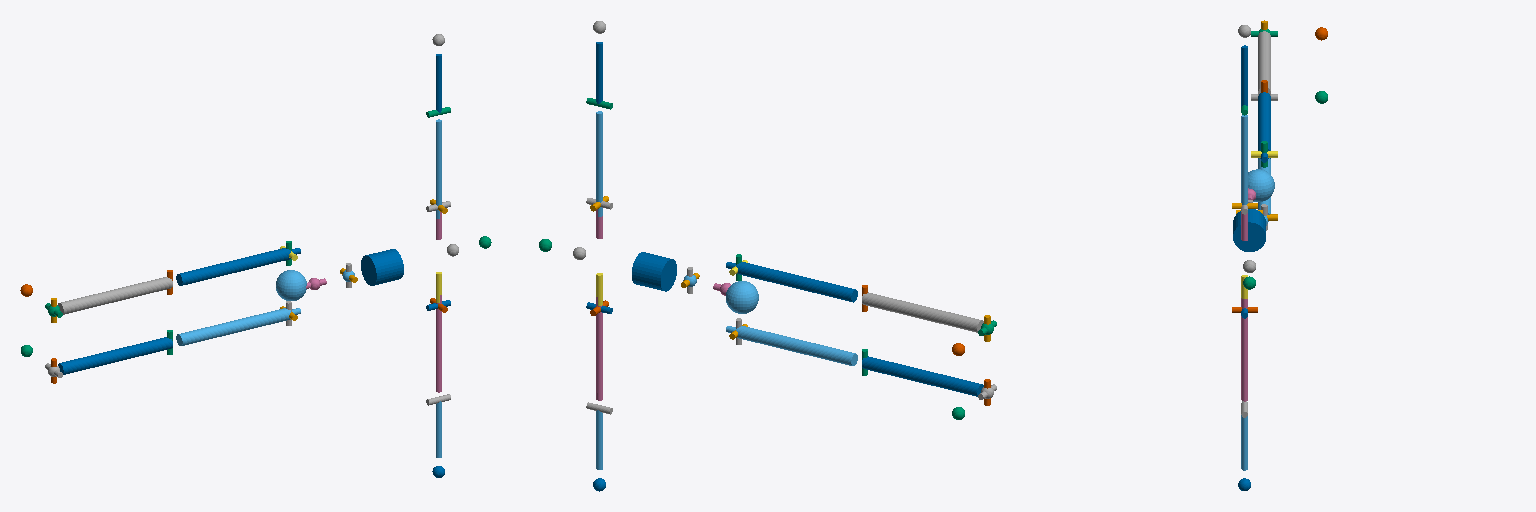
--- What the picture shows (computed from the rendered views, not written in the file) ---
3 views of the same robot in one strip: view 1: azimuth 30°, elevation 25°; view 2: azimuth 150°, elevation 25°; view 3: azimuth 270°, elevation 25° (orthographic).
Robot: bvh_human_3dof_tpose — 70 links, 69 joints (23 revolute, 45 fixed, 1 floating); root link world; default pose: every joint at zero.
Links seen in each view (by area): view 1: RightUpLeg, LeftUpLeg, RightLeg, LeftLeg, Spine2, Hips, LeftArm; view 2: LeftUpLeg, RightUpLeg, LeftLeg, RightLeg, Spine2, Hips, LeftArm, RightArm; view 3: Spine2, LeftUpLeg, LeftLeg, Hips, RightArm, LeftArm.
Boxes of the visible links, left/top/right/bottom form: RightUpLeg: left=176, top=308, right=300, bottom=345; LeftUpLeg: left=176, top=248, right=300, bottom=285; RightLeg: left=58, top=337, right=172, bottom=374; LeftLeg: left=58, top=277, right=172, bottom=314; Spine2: left=361, top=249, right=403, bottom=285; Hips: left=276, top=270, right=306, bottom=300; LeftArm: left=436, top=119, right=441, bottom=218; LeftUpLeg: left=726, top=262, right=857, bottom=302; RightUpLeg: left=726, top=326, right=857, bottom=365; LeftLeg: left=862, top=292, right=983, bottom=332; RightLeg: left=862, top=356, right=983, bottom=396; Spine2: left=632, top=252, right=676, bottom=291; Hips: left=726, top=281, right=758, bottom=313; LeftArm: left=596, top=111, right=602, bottom=216; RightArm: left=596, top=297, right=602, bottom=400; Spine2: left=1233, top=209, right=1265, bottom=251; LeftUpLeg: left=1258, top=92, right=1270, bottom=162; LeftLeg: left=1258, top=31, right=1270, bottom=95; Hips: left=1248, top=169, right=1274, bottom=201; RightArm: left=1241, top=298, right=1247, bottom=401; LeftArm: left=1241, top=115, right=1247, bottom=204.
Bounding box of the posed robot: 1.59 × 0.2924 × 1.55 m (x, y, z).
Geometry: primitives only (box / cylinder / sphere), no mesh files.

The robot description file, URDF, robot "bvh_human_3dof_tpose":
<?xml version='1.0' encoding='utf-8'?>
<robot name="bvh_human_3dof_tpose">

  <mujoco>
    <compiler meshdir="meshes" fusestatic="false" discardvisual="false" strippath="false" balanceinertia="true" />
  </mujoco>

  
  <link name="world" />
  <joint name="floating_base_joint" type="floating">
    <parent link="world" />
    <child link="Hips" />
  </joint>

  <link name="Hips">
    <inertial>
      <origin xyz="0 0 0" rpy="0 0 0" />
      <mass value="1.0" />
      <inertia ixx="0.01" ixy="0.0" ixz="0.0" iyy="0.01" iyz="0.0" izz="0.01" />
    </inertial>
    <visual>
      <geometry>
        <sphere radius="0.05" />
      </geometry>
    </visual>
  </link>

  
  <link name="LeftUpLeg_rz">
    <inertial>
      <origin xyz="0 0 0" rpy="0 0 0" />
      <mass value="1.0" />
      <inertia ixx="0.01" ixy="0.0" ixz="0.0" iyy="0.01" iyz="0.0" izz="0.01" />
    </inertial>
  <visual><origin xyz="0 0 0" rpy="0 0 0" /><geometry><cylinder radius="0.0100" length="0.0800" /></geometry></visual></link>

  <link name="LeftUpLeg_ry">
    <inertial>
      <origin xyz="0 0 0" rpy="0 0 0" />
      <mass value="1.0" />
      <inertia ixx="0.01" ixy="0.0" ixz="0.0" iyy="0.01" iyz="0.0" izz="0.01" />
    </inertial>
  <visual><origin xyz="0 0 0" rpy="-1.5707963 0 0" /><geometry><cylinder radius="0.0100" length="0.0800" /></geometry></visual></link>

  <link name="LeftUpLeg">
    <inertial>
      <origin xyz="0 0 0" rpy="0 0 0" />
      <mass value="1.0" />
      <inertia ixx="0.01" ixy="0.0" ixz="0.0" iyy="0.01" iyz="0.0" izz="0.01" />
    </inertial>
    <visual>
      <origin xyz="0.2 -0.0 -0.0" rpy="0 1.57 0" />
      <geometry>
        <cylinder radius="0.02" length="0.4" />
      </geometry>
    </visual>
  <visual><origin xyz="0 0 0" rpy="0 1.5707963 0" /><geometry><cylinder radius="0.0100" length="0.0800" /></geometry></visual></link>

  
  <joint name="Hips_to_LeftUpLeg_rz" type="revolute">
    <parent link="Hips" />
    <child link="LeftUpLeg_rz" />
    <origin xyz="0.00103457 0.01857820 0.10548506" rpy="0 0 -3.1415927" />
    <axis xyz="0 0 1" />
    <limit lower="-3.14159" upper="3.14159" effort="100" velocity="10" />
  </joint>

  <joint name="LeftUpLeg_rz_to_LeftUpLeg_ry" type="revolute">
    <parent link="LeftUpLeg_rz" />
    <child link="LeftUpLeg_ry" />
    <origin xyz="0 0 0" rpy="0 0 0" />
    <axis xyz="0 1 0" />
    <limit lower="-3.14159" upper="3.14159" effort="100" velocity="10" />
  </joint>

  <joint name="LeftUpLeg_ry_to_LeftUpLeg" type="revolute">
    <parent link="LeftUpLeg_ry" />
    <child link="LeftUpLeg" />
    <origin xyz="0 0 0" rpy="3.1415927 0 0" />
    <axis xyz="1 0 0" />
    <limit lower="-3.14159" upper="3.14159" effort="100" velocity="10" />
  </joint>

  <link name="LeftLeg_rz">
    <inertial>
      <origin xyz="0 0 0" rpy="0 0 0" />
      <mass value="1.0" />
      <inertia ixx="0.01" ixy="0.0" ixz="0.0" iyy="0.01" iyz="0.0" izz="0.01" />
    </inertial>
  <visual><origin xyz="0 0 0" rpy="0 0 0" /><geometry><cylinder radius="0.0100" length="0.0800" /></geometry></visual></link>

  <link name="LeftLeg_ry">
    <inertial>
      <origin xyz="0 0 0" rpy="0 0 0" />
      <mass value="1.0" />
      <inertia ixx="0.01" ixy="0.0" ixz="0.0" iyy="0.01" iyz="0.0" izz="0.01" />
    </inertial>
  </link>

  <link name="LeftLeg">
    <inertial>
      <origin xyz="0 0 0" rpy="0 0 0" />
      <mass value="1.0" />
      <inertia ixx="0.01" ixy="0.0" ixz="0.0" iyy="0.01" iyz="0.0" izz="0.01" />
    </inertial>
    <visual>
      <origin xyz="0.2 -0.0 -0.0" rpy="0 1.57 0" />
      <geometry>
        <cylinder radius="0.02" length="0.4" />
      </geometry>
    </visual>
  </link>

  
  <joint name="LeftUpLeg_to_LeftLeg_rz" type="revolute">
    <parent link="LeftUpLeg" />
    <child link="LeftLeg_rz" />
    <origin xyz="0.43500000 -0.00000019 0.00000002" rpy="0 0 0" />
    <axis xyz="0 0 1" />
    <limit lower="-3.14159" upper="3.14159" effort="100" velocity="10" />
  </joint>

  <joint name="LeftLeg_rz_to_LeftLeg_ry" type="fixed">
    <parent link="LeftLeg_rz" />
    <child link="LeftLeg_ry" />
    <origin xyz="0 0 0" rpy="0 0 0" />
    <axis xyz="0 1 0" />
    <limit lower="-3.14159" upper="3.14159" effort="100" velocity="10" />
  </joint>

  <joint name="LeftLeg_ry_to_LeftLeg" type="fixed">
    <parent link="LeftLeg_ry" />
    <child link="LeftLeg" />
    <origin xyz="0 0 0" rpy="0 0 0" />
    <axis xyz="1 0 0" />
    <limit lower="-3.14159" upper="3.14159" effort="100" velocity="10" />
  </joint>

  <link name="LeftFoot_rz">
    <inertial>
      <origin xyz="0 0 0" rpy="0 0 0" />
      <mass value="1.0" />
      <inertia ixx="0.01" ixy="0.0" ixz="0.0" iyy="0.01" iyz="0.0" izz="0.01" />
    </inertial>
  <visual><origin xyz="0 0 0" rpy="0 0 0" /><geometry><cylinder radius="0.0100" length="0.0800" /></geometry></visual></link>

  <link name="LeftFoot_ry">
    <inertial>
      <origin xyz="0 0 0" rpy="0 0 0" />
      <mass value="1.0" />
      <inertia ixx="0.01" ixy="0.0" ixz="0.0" iyy="0.01" iyz="0.0" izz="0.01" />
    </inertial>
  </link>

  <link name="LeftFoot">
    <inertial>
      <origin xyz="0 0 0" rpy="0 0 0" />
      <mass value="1.0" />
      <inertia ixx="0.01" ixy="0.0" ixz="0.0" iyy="0.01" iyz="0.0" izz="0.01" />
    </inertial>
    <visual>
      <geometry>
        <sphere radius="0.02" />
      </geometry>
    </visual>
  <visual><origin xyz="0 0 0" rpy="0 1.5707963 0" /><geometry><cylinder radius="0.0100" length="0.0800" /></geometry></visual></link>

  
  <joint name="LeftLeg_to_LeftFoot_rz" type="revolute">
    <parent link="LeftLeg" />
    <child link="LeftFoot_rz" />
    <origin xyz="0.42372200 -0.00000004 0.00000003" rpy="0 0 1.5707963" />
    <axis xyz="0 0 1" />
    <limit lower="-3.14159" upper="3.14159" effort="100" velocity="10" />
  </joint>

  <joint name="LeftFoot_rz_to_LeftFoot_ry" type="fixed">
    <parent link="LeftFoot_rz" />
    <child link="LeftFoot_ry" />
    <origin xyz="0 0 0" rpy="0 0 0" />
    <axis xyz="0 1 0" />
    <limit lower="-3.14159" upper="3.14159" effort="100" velocity="10" />
  </joint>

  <joint name="LeftFoot_ry_to_LeftFoot" type="revolute">
    <parent link="LeftFoot_ry" />
    <child link="LeftFoot" />
    <origin xyz="0 0 0" rpy="0 0 0" />
    <axis xyz="1 0 0" />
    <limit lower="-3.14159" upper="3.14159" effort="100" velocity="10" />
  </joint>

  <link name="LeftToe_rz">
    <inertial>
      <origin xyz="0 0 0" rpy="0 0 0" />
      <mass value="1.0" />
      <inertia ixx="0.01" ixy="0.0" ixz="0.0" iyy="0.01" iyz="0.0" izz="0.01" />
    </inertial>
  </link>

  <link name="LeftToe_ry">
    <inertial>
      <origin xyz="0 0 0" rpy="0 0 0" />
      <mass value="1.0" />
      <inertia ixx="0.01" ixy="0.0" ixz="0.0" iyy="0.01" iyz="0.0" izz="0.01" />
    </inertial>
  </link>

  <link name="LeftToe">
    <inertial>
      <origin xyz="0 0 0" rpy="0 0 0" />
      <mass value="1.0" />
      <inertia ixx="0.01" ixy="0.0" ixz="0.0" iyy="0.01" iyz="0.0" izz="0.01" />
    </inertial>
    <visual>
      <geometry>
        <sphere radius="0.02" />
      </geometry>
    </visual>
  </link>

  
  <joint name="LeftFoot_to_LeftToe_rz" type="fixed">
    <parent link="LeftFoot" />
    <child link="LeftToe_rz" />
    <origin xyz="0.17300009 0.00000002 0.00000006" rpy="0 0 0" />
    <axis xyz="0 0 1" />
    <limit lower="-3.14159" upper="3.14159" effort="100" velocity="10" />
  </joint>

  <joint name="LeftToe_rz_to_LeftToe_ry" type="fixed">
    <parent link="LeftToe_rz" />
    <child link="LeftToe_ry" />
    <origin xyz="0 0 0" rpy="0 0 0" />
    <axis xyz="0 1 0" />
    <limit lower="-3.14159" upper="3.14159" effort="100" velocity="10" />
  </joint>

  <joint name="LeftToe_ry_to_LeftToe" type="fixed">
    <parent link="LeftToe_ry" />
    <child link="LeftToe" />
    <origin xyz="0 0 0" rpy="0 0 0" />
    <axis xyz="1 0 0" />
    <limit lower="-3.14159" upper="3.14159" effort="100" velocity="10" />
  </joint>

  <link name="LeftToe_End">
    <inertial>
      <origin xyz="0 0 0" rpy="0 0 0" />
      <mass value="1.0" />
      <inertia ixx="0.01" ixy="0.0" ixz="0.0" iyy="0.01" iyz="0.0" izz="0.01" />
    </inertial>
    <visual>
      <geometry>
        <sphere radius="0.02" />
      </geometry>
    </visual>
  </link>

  <joint name="LeftToe_to_LeftToe_End" type="fixed">
    <parent link="LeftToe" />
    <child link="LeftToe_End" />
    <origin xyz="0 0 0" rpy="0 0 0" />
  </joint>

  
  <link name="RightUpLeg_rz">
    <inertial>
      <origin xyz="0 0 0" rpy="0 0 0" />
      <mass value="1.0" />
      <inertia ixx="0.01" ixy="0.0" ixz="0.0" iyy="0.01" iyz="0.0" izz="0.01" />
    </inertial>
  <visual><origin xyz="0 0 0" rpy="0 0 0" /><geometry><cylinder radius="0.0100" length="0.0800" /></geometry></visual></link>

  <link name="RightUpLeg_ry">
    <inertial>
      <origin xyz="0 0 0" rpy="0 0 0" />
      <mass value="1.0" />
      <inertia ixx="0.01" ixy="0.0" ixz="0.0" iyy="0.01" iyz="0.0" izz="0.01" />
    </inertial>
  <visual><origin xyz="0 0 0" rpy="-1.5707963 0 0" /><geometry><cylinder radius="0.0100" length="0.0800" /></geometry></visual></link>

  <link name="RightUpLeg">
    <inertial>
      <origin xyz="0 0 0" rpy="0 0 0" />
      <mass value="1.0" />
      <inertia ixx="0.01" ixy="0.0" ixz="0.0" iyy="0.01" iyz="0.0" izz="0.01" />
    </inertial>
    <visual>
      <origin xyz="0.2 -0.0 -0.0" rpy="0 1.57 0" />
      <geometry>
        <cylinder radius="0.02" length="0.4" />
      </geometry>
    </visual>
  <visual><origin xyz="0 0 0" rpy="0 1.5707963 0" /><geometry><cylinder radius="0.0100" length="0.0800" /></geometry></visual></link>

  
  <joint name="Hips_to_RightUpLeg_rz" type="revolute">
    <parent link="Hips" />
    <child link="RightUpLeg_rz" />
    <origin xyz="0.00103459 0.01857818 -0.10548504" rpy="0 0 -3.1415927" />
    <axis xyz="0 0 1" />
    <limit lower="-3.14159" upper="3.14159" effort="100" velocity="10" />
  </joint>

  <joint name="RightUpLeg_rz_to_RightUpLeg_ry" type="revolute">
    <parent link="RightUpLeg_rz" />
    <child link="RightUpLeg_ry" />
    <origin xyz="0 0 0" rpy="0 0 0" />
    <axis xyz="0 1 0" />
    <limit lower="-3.14159" upper="3.14159" effort="100" velocity="10" />
  </joint>

  <joint name="RightUpLeg_ry_to_RightUpLeg" type="revolute">
    <parent link="RightUpLeg_ry" />
    <child link="RightUpLeg" />
    
    <origin xyz="0 0 0" rpy="-3.1415927 0 0" />
    <axis xyz="1 0 0" />
    <limit lower="-3.14159" upper="3.14159" effort="100" velocity="10" />
  </joint>

  <link name="RightLeg_rz">
    <inertial>
      <origin xyz="0 0 0" rpy="0 0 0" />
      <mass value="1.0" />
      <inertia ixx="0.01" ixy="0.0" ixz="0.0" iyy="0.01" iyz="0.0" izz="0.01" />
    </inertial>
  <visual><origin xyz="0 0 0" rpy="0 0 0" /><geometry><cylinder radius="0.0100" length="0.0800" /></geometry></visual></link>

  <link name="RightLeg_ry">
    <inertial>
      <origin xyz="0 0 0" rpy="0 0 0" />
      <mass value="1.0" />
      <inertia ixx="0.01" ixy="0.0" ixz="0.0" iyy="0.01" iyz="0.0" izz="0.01" />
    </inertial>
  </link>

  <link name="RightLeg">
    <inertial>
      <origin xyz="0 0 0" rpy="0 0 0" />
      <mass value="1.0" />
      <inertia ixx="0.01" ixy="0.0" ixz="0.0" iyy="0.01" iyz="0.0" izz="0.01" />
    </inertial>
    <visual>
      <origin xyz="0.2 -0.0 -0.0" rpy="0 1.57 0" />
      <geometry>
        <cylinder radius="0.02" length="0.4" />
      </geometry>
    </visual>
  </link>

  
  <joint name="RightUpLeg_to_RightLeg_rz" type="revolute">
    <parent link="RightUpLeg" />
    <child link="RightLeg_rz" />
    <origin xyz="0.43500042 -0.00000015 0.00000010" rpy="0 0 0" />
    <axis xyz="0 0 1" />
    <limit lower="-3.14159" upper="3.14159" effort="100" velocity="10" />
  </joint>

  <joint name="RightLeg_rz_to_RightLeg_ry" type="fixed">
    <parent link="RightLeg_rz" />
    <child link="RightLeg_ry" />
    <origin xyz="0 0 0" rpy="0 0 0" />
    <axis xyz="0 1 0" />
    <limit lower="-3.14159" upper="3.14159" effort="100" velocity="10" />
  </joint>

  <joint name="RightLeg_ry_to_RightLeg" type="fixed">
    <parent link="RightLeg_ry" />
    <child link="RightLeg" />
    <origin xyz="0 0 0" rpy="0 0 0" />
    <axis xyz="1 0 0" />
    <limit lower="-3.14159" upper="3.14159" effort="100" velocity="10" />
  </joint>

  <link name="RightFoot_rz">
    <inertial>
      <origin xyz="0 0 0" rpy="0 0 0" />
      <mass value="1.0" />
      <inertia ixx="0.01" ixy="0.0" ixz="0.0" iyy="0.01" iyz="0.0" izz="0.01" />
    </inertial>
  <visual><origin xyz="0 0 0" rpy="0 0 0" /><geometry><cylinder radius="0.0100" length="0.0800" /></geometry></visual></link>

  <link name="RightFoot_ry">
    <inertial>
      <origin xyz="0 0 0" rpy="0 0 0" />
      <mass value="1.0" />
      <inertia ixx="0.01" ixy="0.0" ixz="0.0" iyy="0.01" iyz="0.0" izz="0.01" />
    </inertial>
  </link>

  <link name="RightFoot">
    <inertial>
      <origin xyz="0 0 0" rpy="0 0 0" />
      <mass value="1.0" />
      <inertia ixx="0.01" ixy="0.0" ixz="0.0" iyy="0.01" iyz="0.0" izz="0.01" />
    </inertial>
    <visual>
      <geometry>
        <sphere radius="0.02" />
      </geometry>
    </visual>
  <visual><origin xyz="0 0 0" rpy="0 1.5707963 0" /><geometry><cylinder radius="0.0100" length="0.0800" /></geometry></visual></link>

  
  <joint name="RightLeg_to_RightFoot_rz" type="revolute">
    <parent link="RightLeg" />
    <child link="RightFoot_rz" />
    <origin xyz="0.42372261 -0.00000008 0.00000010" rpy="0 0 1.5707963" />
    <axis xyz="0 0 1" />
    <limit lower="-3.14159" upper="3.14159" effort="100" velocity="10" />
  </joint>

  <joint name="RightFoot_rz_to_RightFoot_ry" type="fixed">
    <parent link="RightFoot_rz" />
    <child link="RightFoot_ry" />
    <origin xyz="0 0 0" rpy="0 0 0" />
    <axis xyz="0 1 0" />
    <limit lower="-3.14159" upper="3.14159" effort="100" velocity="10" />
  </joint>

  <joint name="RightFoot_ry_to_RightFoot" type="revolute">
    <parent link="RightFoot_ry" />
    <child link="RightFoot" />
    <origin xyz="0 0 0" rpy="0 0 0" />
    <axis xyz="1 0 0" />
    <limit lower="-3.14159" upper="3.14159" effort="100" velocity="10" />
  </joint>

  <link name="RightToe_rz">
    <inertial>
      <origin xyz="0 0 0" rpy="0 0 0" />
      <mass value="1.0" />
      <inertia ixx="0.01" ixy="0.0" ixz="0.0" iyy="0.01" iyz="0.0" izz="0.01" />
    </inertial>
  </link>

  <link name="RightToe_ry">
    <inertial>
      <origin xyz="0 0 0" rpy="0 0 0" />
      <mass value="1.0" />
      <inertia ixx="0.01" ixy="0.0" ixz="0.0" iyy="0.01" iyz="0.0" izz="0.01" />
    </inertial>
  </link>

  <link name="RightToe">
    <inertial>
      <origin xyz="0 0 0" rpy="0 0 0" />
      <mass value="1.0" />
      <inertia ixx="0.01" ixy="0.0" ixz="0.0" iyy="0.01" iyz="0.0" izz="0.01" />
    </inertial>
    <visual>
      <geometry>
        <sphere radius="0.02" />
      </geometry>
    </visual>
  </link>

  
  <joint name="RightFoot_to_RightToe_rz" type="fixed">
    <parent link="RightFoot" />
    <child link="RightToe_rz" />
    <origin xyz="0.17299995 -0.00000005 0.00000000" rpy="0 0 0" />
    <axis xyz="0 0 1" />
    <limit lower="-3.14159" upper="3.14159" effort="100" velocity="10" />
  </joint>

  <joint name="RightToe_rz_to_RightToe_ry" type="fixed">
    <parent link="RightToe_rz" />
    <child link="RightToe_ry" />
    <origin xyz="0 0 0" rpy="0 0 0" />
    <axis xyz="0 1 0" />
    <limit lower="-3.14159" upper="3.14159" effort="100" velocity="10" />
  </joint>

  <joint name="RightToe_ry_to_RightToe" type="fixed">
    <parent link="RightToe_ry" />
    <child link="RightToe" />
    <origin xyz="0 0 0" rpy="0 0 0" />
    <axis xyz="1 0 0" />
    <limit lower="-3.14159" upper="3.14159" effort="100" velocity="10" />
  </joint>

  <link name="RightToe_End">
    <inertial>
      <origin xyz="0 0 0" rpy="0 0 0" />
      <mass value="1.0" />
      <inertia ixx="0.01" ixy="0.0" ixz="0.0" iyy="0.01" iyz="0.0" izz="0.01" />
    </inertial>
    <visual>
      <geometry>
        <sphere radius="0.02" />
      </geometry>
    </visual>
  </link>

  <joint name="RightToe_to_RightToe_End" type="fixed">
    <parent link="RightToe" />
    <child link="RightToe_End" />
    <origin xyz="0 0 0" rpy="0 0 0" />
  </joint>

  
  <link name="Spine_rz">
    <inertial>
      <origin xyz="0 0 0" rpy="0 0 0" />
      <mass value="1.0" />
      <inertia ixx="0.01" ixy="0.0" ixz="0.0" iyy="0.01" iyz="0.0" izz="0.01" />
    </inertial>
  </link>

  <link name="Spine_ry">
    <inertial>
      <origin xyz="0 0 0" rpy="0 0 0" />
      <mass value="1.0" />
      <inertia ixx="0.01" ixy="0.0" ixz="0.0" iyy="0.01" iyz="0.0" izz="0.01" />
    </inertial>
  </link>

  <link name="Spine">
    <inertial>
      <origin xyz="0 0 0" rpy="0 0 0" />
      <mass value="1.0" />
      <inertia ixx="0.01" ixy="0.0" ixz="0.0" iyy="0.01" iyz="0.0" izz="0.01" />
    </inertial>
    <visual>
      <geometry>
        <sphere radius="0.02" />
      </geometry>
    </visual>
  <visual><origin xyz="0 0 0" rpy="0 1.5707963 0" /><geometry><cylinder radius="0.0100" length="0.0800" /></geometry></visual></link>

  
  <joint name="Hips_to_Spine_rz" type="fixed">
    <parent link="Hips" />
    <child link="Spine_rz" />
    <origin xyz="0.06901967 -0.02603743 0.00000001" rpy="0 0 0" />
    <axis xyz="0 0 1" />
    <limit lower="-3.14159" upper="3.14159" effort="100" velocity="10" />
  </joint>

  <joint name="Spine_rz_to_Spine_ry" type="fixed">
    <parent link="Spine_rz" />
    <child link="Spine_ry" />
    <origin xyz="0 0 0" rpy="0 0 0" />
    <axis xyz="0 1 0" />
    <limit lower="-3.14159" upper="3.14159" effort="100" velocity="10" />
  </joint>

  <joint name="Spine_ry_to_Spine" type="revolute">
    <parent link="Spine_ry" />
    <child link="Spine" />
    <origin xyz="0 0 0" rpy="0 0 0" />
    <axis xyz="1 0 0" />
    <limit lower="-3.14159" upper="3.14159" effort="100" velocity="10" />
  </joint>

  <link name="Spine1_rz">
    <inertial>
      <origin xyz="0 0 0" rpy="0 0 0" />
      <mass value="1.0" />
      <inertia ixx="0.01" ixy="0.0" ixz="0.0" iyy="0.01" iyz="0.0" izz="0.01" />
    </inertial>
  <visual><origin xyz="0 0 0" rpy="0 0 0" /><geometry><cylinder radius="0.0100" length="0.0800" /></geometry></visual></link>

  <link name="Spine1_ry">
    <inertial>
      <origin xyz="0 0 0" rpy="0 0 0" />
      <mass value="1.0" />
      <inertia ixx="0.01" ixy="0.0" ixz="0.0" iyy="0.01" iyz="0.0" izz="0.01" />
    </inertial>
  <visual><origin xyz="0 0 0" rpy="-1.5707963 0 0" /><geometry><cylinder radius="0.0100" length="0.0800" /></geometry></visual></link>

  <link name="Spine1">
    <inertial>
      <origin xyz="0 0 0" rpy="0 0 0" />
      <mass value="1.0" />
      <inertia ixx="0.01" ixy="0.0" ixz="0.0" iyy="0.01" iyz="0.0" izz="0.01" />
    </inertial>
    <visual>
      <geometry>
        <sphere radius="0.02" />
      </geometry>
    </visual>
  </link>

  
  <joint name="Spine_to_Spine1_rz" type="revolute">
    <parent link="Spine" />
    <child link="Spine1_rz" />
    <origin xyz="0.12588100 0.00000016 -0.00000005" rpy="0 0 0" />
    <axis xyz="0 0 1" />
    <limit lower="-3.14159" upper="3.14159" effort="100" velocity="10" />
  </joint>

  <joint name="Spine1_rz_to_Spine1_ry" type="revolute">
    <parent link="Spine1_rz" />
    <child link="Spine1_ry" />
    <origin xyz="0 0 0" rpy="0 0 0" />
    <axis xyz="0 1 0" />
    <limit lower="-3.14159" upper="3.14159" effort="100" velocity="10" />
  </joint>

  <joint name="Spine1_ry_to_Spine1" type="fixed">
    <parent link="Spine1_ry" />
    <child link="Spine1" />
    <origin xyz="0 0 0" rpy="0 0 0" />
    <axis xyz="1 0 0" />
    <limit lower="-3.14159" upper="3.14159" effort="100" velocity="10" />
  </joint>

  <link name="Spine2_rz">
    <inertial>
      <origin xyz="0 0 0" rpy="0 0 0" />
      <mass value="1.0" />
      <inertia ixx="0.01" ixy="0.0" ixz="0.0" iyy="0.01" iyz="0.0" izz="0.01" />
    </inertial>
  </link>

  <link name="Spine2_ry">
    <inertial>
      <origin xyz="0 0 0" rpy="0 0 0" />
      <mass value="1.0" />
      <inertia ixx="0.01" ixy="0.0" ixz="0.0" iyy="0.01" iyz="0.0" izz="0.01" />
    </inertial>
  </link>

  <link name="Spine2">
    <inertial>
      <origin xyz="0 0 0" rpy="0 0 0" />
      <mass value="1.0" />
      <inertia ixx="0.01" ixy="0.0" ixz="0.0" iyy="0.01" iyz="0.0" izz="0.01" />
    </inertial>
    <visual>
      <origin xyz="0.0 -0.0 -0.0" rpy="0 1.57 0" />
      <geometry>
        <cylinder radius="0.05" length="0.1" />
      </geometry>
    </visual>
  </link>

  
  <joint name="Spine1_to_Spine2_rz" type="fixed">
    <parent link="Spine1" />
    <child link="Spine2_rz" />
    <origin xyz="0.12343201 -0.00000011 -0.00000005" rpy="0 0 0" />
    <axis xyz="0 0 1" />
    <limit lower="-3.14159" upper="3.14159" effort="100" velocity="10" />
  </joint>

  <joint name="Spine2_rz_to_Spine2_ry" type="fixed">
    <parent link="Spine2_rz" />
    <child link="Spine2_ry" />
    <origin xyz="0 0 0" rpy="0 0 0" />
    <axis xyz="0 1 0" />
    <limit lower="-3.14159" upper="3.14159" effort="100" velocity="10" />
  </joint>

  <joint name="Spine2_ry_to_Spine2" type="fixed">
    <parent link="Spine2_ry" />
    <child link="Spine2" />
    <origin xyz="0 0 0" rpy="0 0 0" />
    <axis xyz="1 0 0" />
    <limit lower="-3.14159" upper="3.14159" effort="100" velocity="10" />
  </joint>

  <link name="Neck_rz">
    <inertial>
      <origin xyz="0 0 0" rpy="0 0 0" />
      <mass value="1.0" />
      <inertia ixx="0.01" ixy="0.0" ixz="0.0" iyy="0.01" iyz="0.0" izz="0.01" />
    </inertial>
  </link>

  <link name="Neck_ry">
    <inertial>
      <origin xyz="0 0 0" rpy="0 0 0" />
      <mass value="1.0" />
      <inertia ixx="0.01" ixy="0.0" ixz="0.0" iyy="0.01" iyz="0.0" izz="0.01" />
    </inertial>
  </link>

  <link name="Neck">
    <inertial>
      <origin xyz="0 0 0" rpy="0 0 0" />
      <mass value="1.0" />
      <inertia ixx="0.01" ixy="0.0" ixz="0.0" iyy="0.01" iyz="0.0" izz="0.01" />
    </inertial>
    <visual>
      <geometry>
        <sphere radius="0.02" />
      </geometry>
    </visual>
  </link>

  
  <joint name="Spine2_to_Neck_rz" type="fixed">
    <parent link="Spine2" />
    <child link="Neck_rz" />
    <origin xyz="0.25832895 0.00000008 0.00000006" rpy="0 0 0" />
    <axis xyz="0 0 1" />
    <limit lower="-3.14159" upper="3.14159" effort="100" velocity="10" />
  </joint>

  <joint name="Neck_rz_to_Neck_ry" type="fixed">
    <parent link="Neck_rz" />
    <child link="Neck_ry" />
    <origin xyz="0 0 0" rpy="0 0 0" />
    <axis xyz="0 1 0" />
    <limit lower="-3.14159" upper="3.14159" effort="100" velocity="10" />
  </joint>

  <joint name="Neck_ry_to_Neck" type="fixed">
    <parent link="Neck_ry" />
    <child link="Neck" />
    <origin xyz="0 0 0" rpy="0 0 0" />
    <axis xyz="1 0 0" />
    <limit lower="-3.14159" upper="3.14159" effort="100" velocity="10" />
  </joint>

  <link name="Head_rz">
    <inertial>
      <origin xyz="0 0 0" rpy="0 0 0" />
      <mass value="1.0" />
      <inertia ixx="0.01" ixy="0.0" ixz="0.0" iyy="0.01" iyz="0.0" izz="0.01" />
    </inertial>
  </link>

  <link name="Head_ry">
    <inertial>
      <origin xyz="0 0 0" rpy="0 0 0" />
      <mass value="1.0" />
      <inertia ixx="0.01" ixy="0.0" ixz="0.0" iyy="0.01" iyz="0.0" izz="0.01" />
    </inertial>
  </link>

  <link name="Head">
    <inertial>
      <origin xyz="0 0 0" rpy="0 0 0" />
      <mass value="1.0" />
      <inertia ixx="0.01" ixy="0.0" ixz="0.0" iyy="0.01" iyz="0.0" izz="0.01" />
    </inertial>
    <visual>
      <geometry>
        <sphere radius="0.02" />
      </geometry>
    </visual>
  </link>

  
  <joint name="Neck_to_Head_rz" type="fixed">
    <parent link="Neck" />
    <child link="Head_rz" />
    <origin xyz="0.11766613 -0.00000004 -0.00000002" rpy="0 0 0" />
    <axis xyz="0 0 1" />
    <limit lower="-3.14159" upper="3.14159" effort="100" velocity="10" />
  </joint>

  <joint name="Head_rz_to_Head_ry" type="fixed">
    <parent link="Head_rz" />
    <child link="Head_ry" />
    <origin xyz="0 0 0" rpy="0 0 0" />
    <axis xyz="0 1 0" />
    <limit lower="-3.14159" upper="3.14159" effort="100" velocity="10" />
  </joint>

  <joint name="Head_ry_to_Head" type="fixed">
    <parent link="Head_ry" />
    <child link="Head" />
    <origin xyz="0 0 0" rpy="0 0 0" />
    <axis xyz="1 0 0" />
    <limit lower="-3.14159" upper="3.14159" effort="100" velocity="10" />
  </joint>

  <link name="Head_End">
    <inertial>
      <origin xyz="0 0 0" rpy="0 0 0" />
      <mass value="1.0" />
      <inertia ixx="0.01" ixy="0.0" ixz="0.0" iyy="0.01" iyz="0.0" izz="0.01" />
    </inertial>
    <visual>
      <geometry>
        <sphere radius="0.02" />
      </geometry>
    </visual>
  </link>

  <joint name="Head_to_Head_End" type="fixed">
    <parent link="Head" />
    <child link="Head_End" />
    <origin xyz="0 0 0" rpy="0 0 0" />
  </joint>

  
  <link name="LeftShoulder_rz">
    <inertial>
      <origin xyz="0 0 0" rpy="0 0 0" />
      <mass value="1.0" />
      <inertia ixx="0.01" ixy="0.0" ixz="0.0" iyy="0.01" iyz="0.0" izz="0.01" />
    </inertial>
  </link>

  <link name="LeftShoulder_ry">
    <inertial>
      <origin xyz="0 0 0" rpy="0 0 0" />
      <mass value="1.0" />
      <inertia ixx="0.01" ixy="0.0" ixz="0.0" iyy="0.01" iyz="0.0" izz="0.01" />
    </inertial>
  </link>

  <link name="LeftShoulder">
    <inertial>
      <origin xyz="0 0 0" rpy="0 0 0" />
      <mass value="1.0" />
      <inertia ixx="0.01" ixy="0.0" ixz="0.0" iyy="0.01" iyz="0.0" izz="0.01" />
    </inertial>
    <visual>
      <origin xyz="0.05 -0.0 -0.0" rpy="0 1.57 0" />
      <geometry>
        <cylinder radius="0.01" length="0.1" />
      </geometry>
    </visual>
  </link>

  
  <joint name="Spine2_to_LeftShoulder_rz" type="fixed">
    <parent link="Spine2" />
    <child link="LeftShoulder_rz" />
    <origin xyz="0.19745897 -0.01480371 0.06000116" rpy="0 0 -1.5707963" />
    <axis xyz="0 0 1" />
    <limit lower="-3.14159" upper="3.14159" effort="100" velocity="10" />
  </joint>

  <joint name="LeftShoulder_rz_to_LeftShoulder_ry" type="fixed">
    <parent link="LeftShoulder_rz" />
    <child link="LeftShoulder_ry" />
    <origin xyz="0 0 0" rpy="0 -1.5707963 0" />
    <axis xyz="0 1 0" />
    <limit lower="-3.14159" upper="3.14159" effort="100" velocity="10" />
  </joint>

  <joint name="LeftShoulder_ry_to_LeftShoulder" type="fixed">
    <parent link="LeftShoulder_ry" />
    <child link="LeftShoulder" />
    <origin xyz="0 0 0" rpy="-1.5707963 0 0" />
    <axis xyz="1 0 0" />
    <limit lower="-3.14159" upper="3.14159" effort="100" velocity="10" />
  </joint>

  <link name="LeftArm_rz">
    <inertial>
      <origin xyz="0 0 0" rpy="0 0 0" />
      <mass value="1.0" />
      <inertia ixx="0.01" ixy="0.0" ixz="0.0" iyy="0.01" iyz="0.0" izz="0.01" />
    </inertial>
  <visual><origin xyz="0 0 0" rpy="0 0 0" /><geometry><cylinder radius="0.0100" length="0.0800" /></geometry></visual></link>

  <link name="LeftArm_ry">
    <inertial>
      <origin xyz="0 0 0" rpy="0 0 0" />
      <mass value="1.0" />
      <inertia ixx="0.01" ixy="0.0" ixz="0.0" iyy="0.01" iyz="0.0" izz="0.01" />
    </inertial>
  <visual><origin xyz="0 0 0" rpy="-1.5707963 0 0" /><geometry><cylinder radius="0.0100" length="0.0800" /></geometry></visual></link>

  <link name="LeftArm">
    <inertial>
      <origin xyz="0 0 0" rpy="0 0 0" />
      <mass value="1.0" />
      <inertia ixx="0.01" ixy="0.0" ixz="0.0" iyy="0.01" iyz="0.0" izz="0.01" />
    </inertial>
    <visual>
      <origin xyz="0.15 -0.0 -0.0" rpy="0 1.57 0" />
      <geometry>
        <cylinder radius="0.01" length="0.3" />
      </geometry>
    </visual>
  <visual><origin xyz="0 0 0" rpy="0 1.5707963 0" /><geometry><cylinder radius="0.0100" length="0.0800" /></geometry></visual></link>

  
  <joint name="LeftShoulder_to_LeftArm_rz" type="revolute">
    <parent link="LeftShoulder" />
    <child link="LeftArm_rz" />
    <origin xyz="0.11284124 -0.00000012 -0.00000008" rpy="0 0 0" />
    <axis xyz="0 0 1" />
    <limit lower="-3.14159" upper="3.14159" effort="100" velocity="10" />
  </joint>

  <joint name="LeftArm_rz_to_LeftArm_ry" type="revolute">
    <parent link="LeftArm_rz" />
    <child link="LeftArm_ry" />
    <origin xyz="0 0 0" rpy="0 0 0" />
    <axis xyz="0 1 0" />
    
    <limit lower="-3.14159" upper="3.14159" effort="100" velocity="10" />
  </joint>

  <joint name="LeftArm_ry_to_LeftArm" type="revolute">
    <parent link="LeftArm_ry" />
    <child link="LeftArm" />
    <origin xyz="0 0 0" rpy="0 0 0" />
    <axis xyz="1 0 0" />
    <limit lower="-3.14159" upper="3.14159" effort="100" velocity="10" />
  </joint>

  <link name="LeftForeArm_rz">
    <inertial>
      <origin xyz="0 0 0" rpy="0 0 0" />
      <mass value="1.0" />
      <inertia ixx="0.01" ixy="0.0" ixz="0.0" iyy="0.01" iyz="0.0" izz="0.01" />
    </inertial>
  <visual><origin xyz="0 0 0" rpy="0 0 0" /><geometry><cylinder radius="0.0100" length="0.0800" /></geometry></visual></link>

  <link name="LeftForeArm_ry">
    <inertial>
      <origin xyz="0 0 0" rpy="0 0 0" />
      <mass value="1.0" />
      <inertia ixx="0.01" ixy="0.0" ixz="0.0" iyy="0.01" iyz="0.0" izz="0.01" />
    </inertial>
  </link>

  <link name="LeftForeArm">
    <inertial>
      <origin xyz="0 0 0" rpy="0 0 0" />
      <mass value="1.0" />
      <inertia ixx="0.01" ixy="0.0" ixz="0.0" iyy="0.01" iyz="0.0" izz="0.01" />
    </inertial>
    <visual>
      <origin xyz="0.1 -0.0 -0.0" rpy="0 1.57 0" />
      <geometry>
        <cylinder radius="0.01" length="0.2" />
      </geometry>
    </visual>
  </link>

  
  <joint name="LeftArm_to_LeftForeArm_rz" type="revolute">
    <parent link="LeftArm" />
    <child link="LeftForeArm_rz" />
    <origin xyz="0.33000046 0.00000002 0.00000022" rpy="0 0 0" />
    <axis xyz="0 0 1" />
    <limit lower="-3.14159" upper="3.14159" effort="100" velocity="10" />
  </joint>

  <joint name="LeftForeArm_rz_to_LeftForeArm_ry" type="fixed">
    <parent link="LeftForeArm_rz" />
    <child link="LeftForeArm_ry" />
    <origin xyz="0 0 0" rpy="0 0 0" />
    <axis xyz="0 1 0" />
    <limit lower="-3.14159" upper="3.14159" effort="100" velocity="10" />
  </joint>

  <joint name="LeftForeArm_ry_to_LeftForeArm" type="fixed">
    <parent link="LeftForeArm_ry" />
    <child link="LeftForeArm" />
    <origin xyz="0 0 0" rpy="0 0 0" />
    <axis xyz="1 0 0" />
    <limit lower="-3.14159" upper="3.14159" effort="100" velocity="10" />
  </joint>

  <link name="LeftHand_rz">
    <inertial>
      <origin xyz="0 0 0" rpy="0 0 0" />
      <mass value="1.0" />
      <inertia ixx="0.01" ixy="0.0" ixz="0.0" iyy="0.01" iyz="0.0" izz="0.01" />
    </inertial>
  </link>

  <link name="LeftHand_ry">
    <inertial>
      <origin xyz="0 0 0" rpy="0 0 0" />
      <mass value="1.0" />
      <inertia ixx="0.01" ixy="0.0" ixz="0.0" iyy="0.01" iyz="0.0" izz="0.01" />
    </inertial>
  </link>

  <link name="LeftHand">
    <inertial>
      <origin xyz="0 0 0" rpy="0 0 0" />
      <mass value="1.0" />
      <inertia ixx="0.01" ixy="0.0" ixz="0.0" iyy="0.01" iyz="0.0" izz="0.01" />
    </inertial>
    <visual>
      <geometry>
        <sphere radius="0.02" />
      </geometry>
    </visual>
  </link>

  
  <joint name="LeftForeArm_to_LeftHand_rz" type="fixed">
    <parent link="LeftForeArm" />
    <child link="LeftHand_rz" />
    <origin xyz="0.25200014 0.00000006 0.00000015" rpy="0 0 0" />
    <axis xyz="0 0 1" />
    <limit lower="-3.14159" upper="3.14159" effort="100" velocity="10" />
  </joint>

  <joint name="LeftHand_rz_to_LeftHand_ry" type="fixed">
    <parent link="LeftHand_rz" />
    <child link="LeftHand_ry" />
    <origin xyz="0 0 0" rpy="0 0 0" />
    <axis xyz="0 1 0" />
    <limit lower="-3.14159" upper="3.14159" effort="100" velocity="10" />
  </joint>

  <joint name="LeftHand_ry_to_LeftHand" type="fixed">
    <parent link="LeftHand_ry" />
    <child link="LeftHand" />
    <origin xyz="0 0 0" rpy="0 0 0" />
    <axis xyz="1 0 0" />
    <limit lower="-3.14159" upper="3.14159" effort="100" velocity="10" />
  </joint>

  <link name="LeftHand_End">
    <inertial>
      <origin xyz="0 0 0" rpy="0 0 0" />
      <mass value="1.0" />
      <inertia ixx="0.01" ixy="0.0" ixz="0.0" iyy="0.01" iyz="0.0" izz="0.01" />
    </inertial>
    <visual>
      <geometry>
        <sphere radius="0.02" />
      </geometry>
    </visual>
  </link>

  <joint name="LeftHand_to_LeftHand_End" type="fixed">
    <parent link="LeftHand" />
    <child link="LeftHand_End" />
    <origin xyz="0 0 0" rpy="0 0 0" />
  </joint>

  
  <link name="RightShoulder_rz">
    <inertial>
      <origin xyz="0 0 0" rpy="0 0 0" />
      <mass value="1.0" />
      <inertia ixx="0.01" ixy="0.0" ixz="0.0" iyy="0.01" iyz="0.0" izz="0.01" />
    </inertial>
  </link>

  <link name="RightShoulder_ry">
    <inertial>
      <origin xyz="0 0 0" rpy="0 0 0" />
      <mass value="1.0" />
      <inertia ixx="0.01" ixy="0.0" ixz="0.0" iyy="0.01" iyz="0.0" izz="0.01" />
    </inertial>
  </link>

  <link name="RightShoulder">
    <inertial>
      <origin xyz="0 0 0" rpy="0 0 0" />
      <mass value="1.0" />
      <inertia ixx="0.01" ixy="0.0" ixz="0.0" iyy="0.01" iyz="0.0" izz="0.01" />
    </inertial>
    <visual>
      <origin xyz="0.05 -0.0 -0.0" rpy="0 1.57 0" />
      <geometry>
        <cylinder radius="0.01" length="0.1" />
      </geometry>
    </visual>
  </link>

  
  <joint name="Spine2_to_RightShoulder_rz" type="fixed">
    <parent link="Spine2" />
    <child link="RightShoulder_rz" />
    <origin xyz="0.19746101 -0.01480377 -0.06000068" rpy="0 0 1.5707963" />
    <axis xyz="0 0 1" />
    <limit lower="-3.14159" upper="3.14159" effort="100" velocity="10" />
  </joint>

  <joint name="RightShoulder_rz_to_RightShoulder_ry" type="fixed">
    <parent link="RightShoulder_rz" />
    <child link="RightShoulder_ry" />
    <origin xyz="0 0 0" rpy="0 1.5707963 0" />
    <axis xyz="0 1 0" />
    <limit lower="-3.14159" upper="3.14159" effort="100" velocity="10" />
  </joint>

  <joint name="RightShoulder_ry_to_RightShoulder" type="fixed">
    <parent link="RightShoulder_ry" />
    <child link="RightShoulder" />
    <origin xyz="0 0 0" rpy="-1.5707963 0 0" />
    <axis xyz="1 0 0" />
    <limit lower="-3.14159" upper="3.14159" effort="100" velocity="10" />
  </joint>

  <link name="RightArm_rz">
    <inertial>
      <origin xyz="0 0 0" rpy="0 0 0" />
      <mass value="1.0" />
      <inertia ixx="0.01" ixy="0.0" ixz="0.0" iyy="0.01" iyz="0.0" izz="0.01" />
    </inertial>
  <visual><origin xyz="0 0 0" rpy="0 0 0" /><geometry><cylinder radius="0.0100" length="0.0800" /></geometry></visual></link>

  <link name="RightArm_ry">
    <inertial>
      <origin xyz="0 0 0" rpy="0 0 0" />
      <mass value="1.0" />
      <inertia ixx="0.01" ixy="0.0" ixz="0.0" iyy="0.01" iyz="0.0" izz="0.01" />
    </inertial>
  <visual><origin xyz="0 0 0" rpy="-1.5707963 0 0" /><geometry><cylinder radius="0.0100" length="0.0800" /></geometry></visual></link>

  <link name="RightArm">
    <inertial>
      <origin xyz="0 0 0" rpy="0 0 0" />
      <mass value="1.0" />
      <inertia ixx="0.01" ixy="0.0" ixz="0.0" iyy="0.01" iyz="0.0" izz="0.01" />
    </inertial>
    <visual>
      <origin xyz="0.15 -0.0 -0.0" rpy="0 1.57 0" />
      <geometry>
        <cylinder radius="0.01" length="0.3" />
      </geometry>
    </visual>
  <visual><origin xyz="0 0 0" rpy="0 1.5707963 0" /><geometry><cylinder radius="0.0100" length="0.0800" /></geometry></visual></link>

  
  <joint name="RightShoulder_to_RightArm_rz" type="revolute">
    <parent link="RightShoulder" />
    <child link="RightArm_rz" />
    <origin xyz="0.11284134 -0.00000035 -0.00000008" rpy="0 0 0" />
    <axis xyz="0 0 1" />
    <limit lower="-3.14159" upper="3.14159" effort="100" velocity="10" />
  </joint>

  <joint name="RightArm_rz_to_RightArm_ry" type="revolute">
    <parent link="RightArm_rz" />
    <child link="RightArm_ry" />
    <origin xyz="0 0 0" rpy="0 0 0" />
    <axis xyz="0 1 0" />
    <limit lower="-3.14159" upper="3.14159" effort="100" velocity="10" />
  </joint>

  <joint name="RightArm_ry_to_RightArm" type="revolute">
    <parent link="RightArm_ry" />
    <child link="RightArm" />
    <origin xyz="0 0 0" rpy="0 0 0" />
    <axis xyz="1 0 0" />
    <limit lower="-3.14159" upper="3.14159" effort="100" velocity="10" />
  </joint>

  <link name="RightForeArm_rz">
    <inertial>
      <origin xyz="0 0 0" rpy="0 0 0" />
      <mass value="1.0" />
      <inertia ixx="0.01" ixy="0.0" ixz="0.0" iyy="0.01" iyz="0.0" izz="0.01" />
    </inertial>
  <visual><origin xyz="0 0 0" rpy="0 0 0" /><geometry><cylinder radius="0.0100" length="0.0800" /></geometry></visual></link>

  <link name="RightForeArm_ry">
    <inertial>
      <origin xyz="0 0 0" rpy="0 0 0" />
      <mass value="1.0" />
      <inertia ixx="0.01" ixy="0.0" ixz="0.0" iyy="0.01" iyz="0.0" izz="0.01" />
    </inertial>
  </link>

  <link name="RightForeArm">
    <inertial>
      <origin xyz="0 0 0" rpy="0 0 0" />
      <mass value="1.0" />
      <inertia ixx="0.01" ixy="0.0" ixz="0.0" iyy="0.01" iyz="0.0" izz="0.01" />
    </inertial>
    <visual>
      <origin xyz="0.1 -0.0 -0.0" rpy="0 1.57 0" />
      <geometry>
        <cylinder radius="0.01" length="0.2" />
      </geometry>
    </visual>
  </link>

  
  <joint name="RightArm_to_RightForeArm_rz" type="revolute">
    <parent link="RightArm" />
    <child link="RightForeArm_rz" />
    <origin xyz="0.33000092 0.00000019 0.00000006" rpy="0 0 0" />
    <axis xyz="0 0 1" />
    <limit lower="-3.14159" upper="3.14159" effort="100" velocity="10" />
  </joint>

  <joint name="RightForeArm_rz_to_RightForeArm_ry" type="fixed">
    <parent link="RightForeArm_rz" />
    <child link="RightForeArm_ry" />
    <origin xyz="0 0 0" rpy="0 0 0" />
    <axis xyz="0 1 0" />
    <limit lower="-3.14159" upper="3.14159" effort="100" velocity="10" />
  </joint>

  <joint name="RightForeArm_ry_to_RightForeArm" type="fixed">
    <parent link="RightForeArm_ry" />
    <child link="RightForeArm" />
    <origin xyz="0 0 0" rpy="0 0 0" />
    <axis xyz="1 0 0" />
    <limit lower="-3.14159" upper="3.14159" effort="100" velocity="10" />
  </joint>

  <link name="RightHand_rz">
    <inertial>
      <origin xyz="0 0 0" rpy="0 0 0" />
      <mass value="1.0" />
      <inertia ixx="0.01" ixy="0.0" ixz="0.0" iyy="0.01" iyz="0.0" izz="0.01" />
    </inertial>
  </link>

  <link name="RightHand_ry">
    <inertial>
      <origin xyz="0 0 0" rpy="0 0 0" />
      <mass value="1.0" />
      <inertia ixx="0.01" ixy="0.0" ixz="0.0" iyy="0.01" iyz="0.0" izz="0.01" />
    </inertial>
  </link>

  <link name="RightHand">
    <inertial>
      <origin xyz="0 0 0" rpy="0 0 0" />
      <mass value="1.0" />
      <inertia ixx="0.01" ixy="0.0" ixz="0.0" iyy="0.01" iyz="0.0" izz="0.01" />
    </inertial>
    <visual>
      <geometry>
        <sphere radius="0.02" />
      </geometry>
    </visual>
  </link>

  
  <joint name="RightForeArm_to_RightHand_rz" type="fixed">
    <parent link="RightForeArm" />
    <child link="RightHand_rz" />
    <origin xyz="0.25199776 0.00000139 0.00000431" rpy="0 0 0" />
    <axis xyz="0 0 1" />
    <limit lower="-3.14159" upper="3.14159" effort="100" velocity="10" />
  </joint>

  <joint name="RightHand_rz_to_RightHand_ry" type="fixed">
    <parent link="RightHand_rz" />
    <child link="RightHand_ry" />
    <origin xyz="0 0 0" rpy="0 0 0" />
    <axis xyz="0 1 0" />
    <limit lower="-3.14159" upper="3.14159" effort="100" velocity="10" />
  </joint>

  <joint name="RightHand_ry_to_RightHand" type="fixed">
    <parent link="RightHand_ry" />
    <child link="RightHand" />
    <origin xyz="0 0 0" rpy="0 0 0" />
    <axis xyz="1 0 0" />
    
    <limit lower="-3.14159" upper="3.14159" effort="100" velocity="10" />
  </joint>

  <link name="RightHand_End">
    <inertial>
      <origin xyz="0 0 0" rpy="0 0 0" />
      <mass value="1.0" />
      <inertia ixx="0.01" ixy="0.0" ixz="0.0" iyy="0.01" iyz="0.0" izz="0.01" />
    </inertial>
    <visual>
      <geometry>
        <sphere radius="0.02" />
      </geometry>
    </visual>
  </link>

  <joint name="RightHand_to_RightHand_End" type="fixed">
    <parent link="RightHand" />
    <child link="RightHand_End" />
    <origin xyz="0 0 0" rpy="0 0 0" />
  </joint>


</robot>
